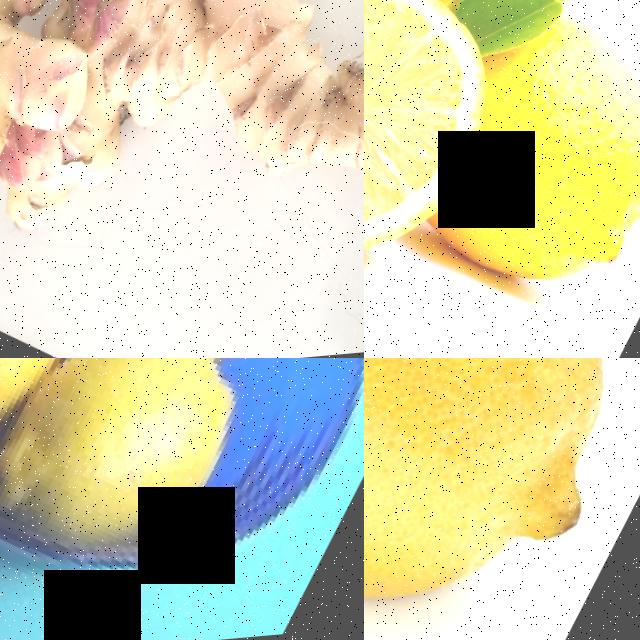ginger: (0, 0, 255, 180)
lemon: (364, 358, 640, 640), (0, 358, 259, 599), (364, 0, 525, 312)
peanuts: (419, 12, 640, 344)
